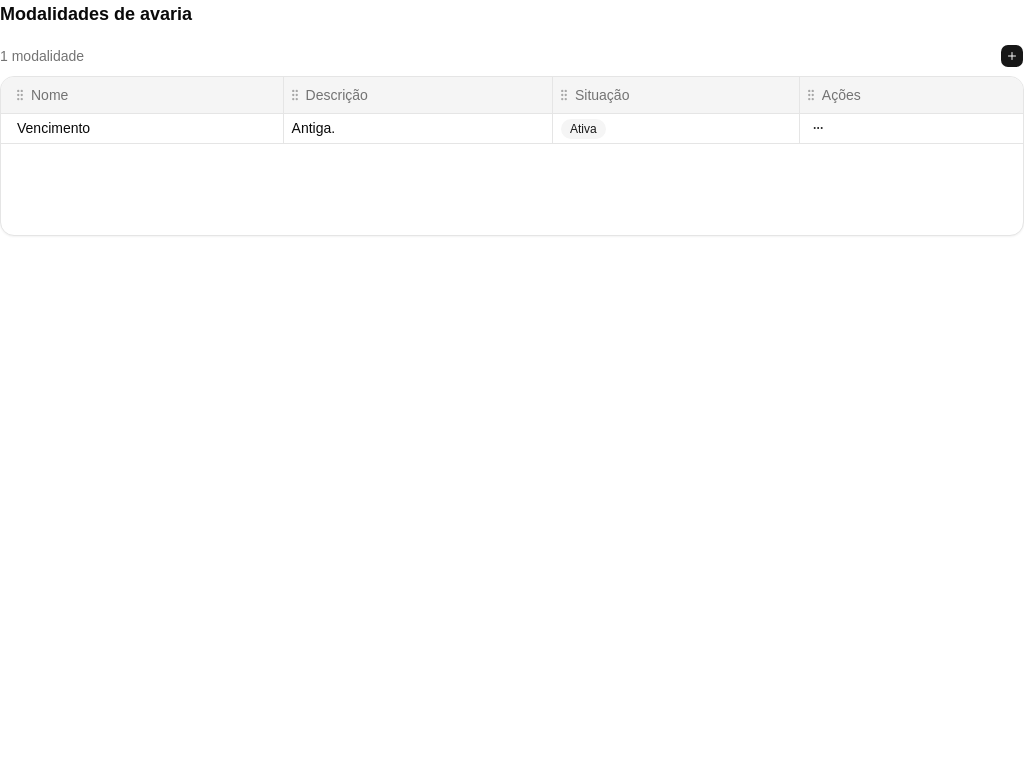
LossReasonsPage › opens a reason already filled to edit it, and sends the change
Click the button named "Ações de Vencimento".
click(818, 128)  # box top-left (808, 118), bottom-right (828, 138)
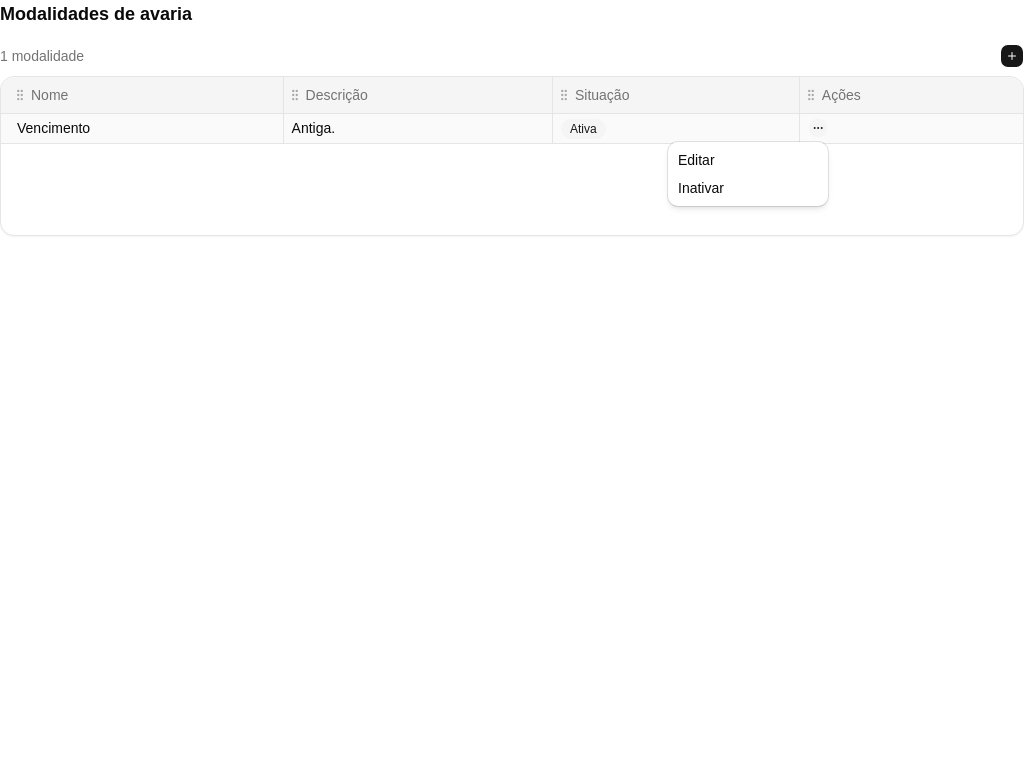
Click the menu item "Editar".
click(696, 160)  # box top-left (678, 152), bottom-right (715, 168)
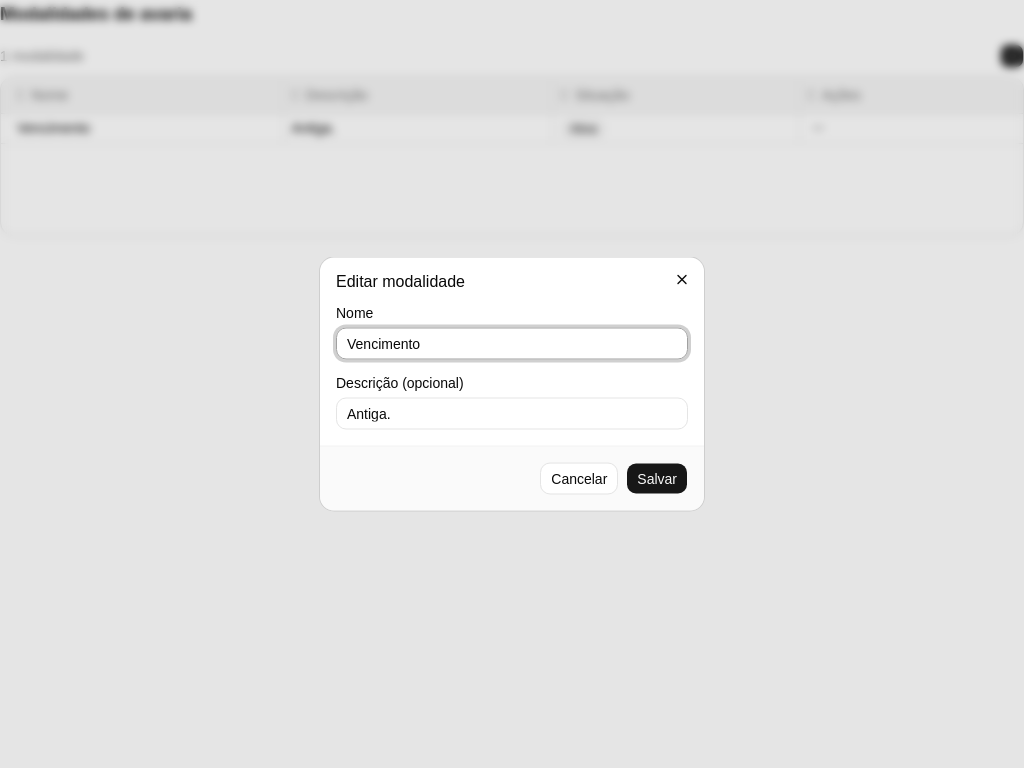
expect the field labelled "Nome" holds "Vencimento": met
expect the field labelled "Descrição (opcional)" holds "Antiga.": met, box top-left (336, 398), bottom-right (688, 430)
Replace the text in the field labelled "Nome" with "Vencido" at (512, 344), box top-left (336, 328), bottom-right (688, 360)
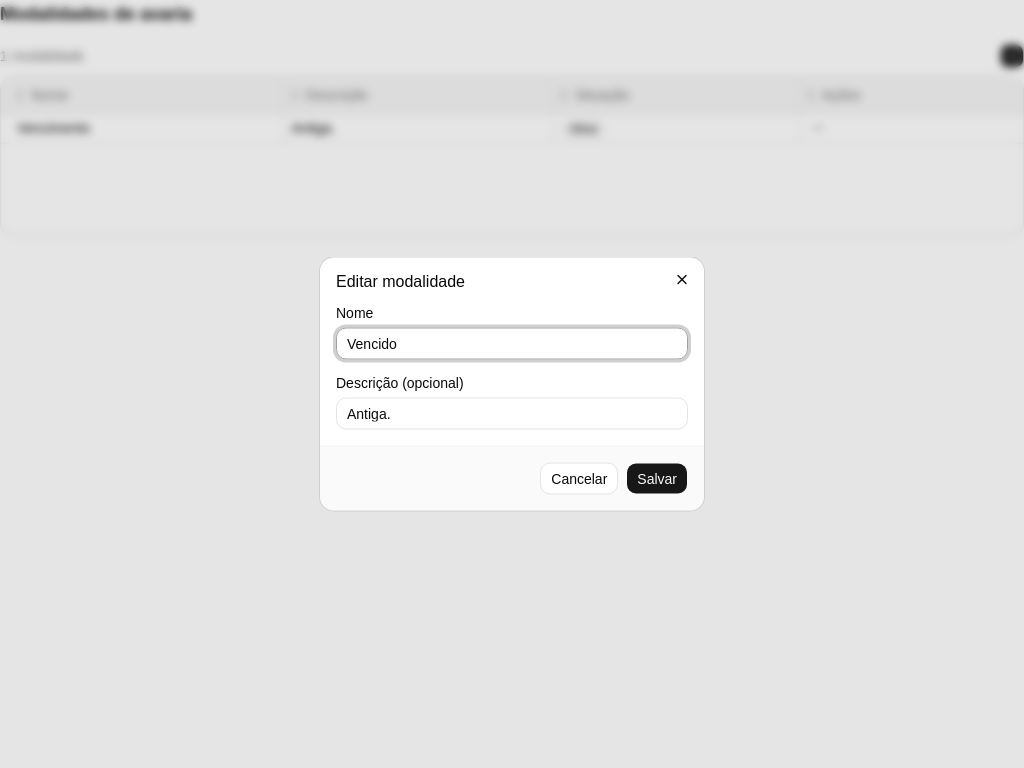
Clear the field labelled "Descrição (opcional)" at (512, 414), box top-left (336, 398), bottom-right (688, 430)
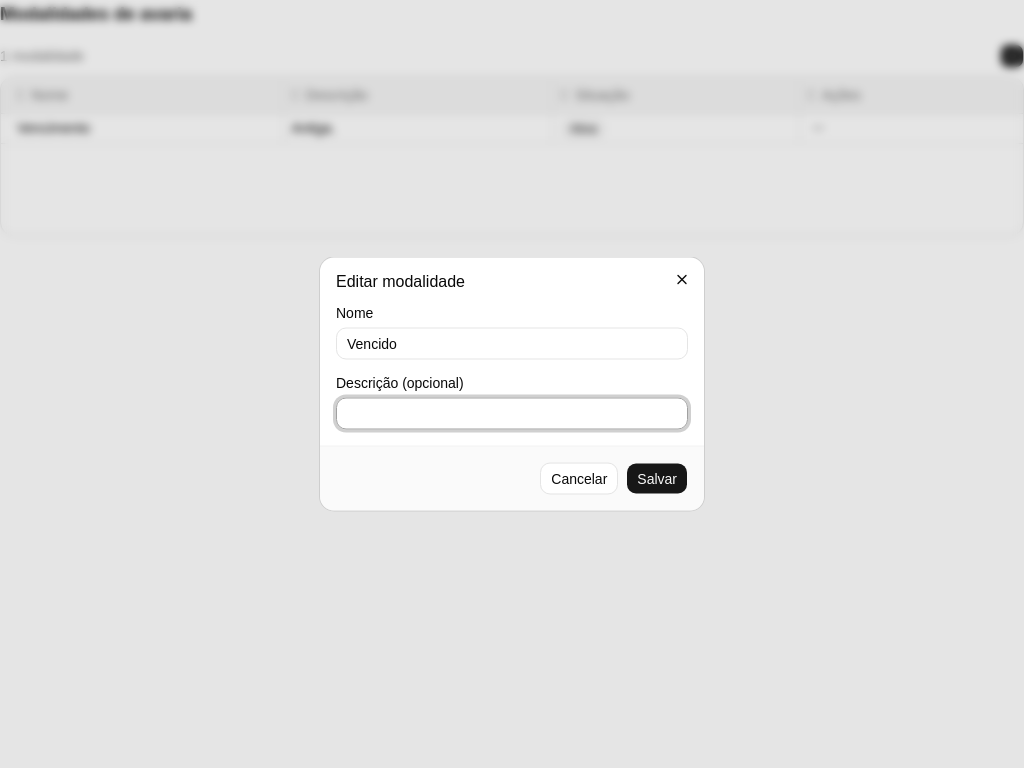
Click the button "Salvar".
click(657, 478)  # box top-left (626, 462), bottom-right (688, 494)
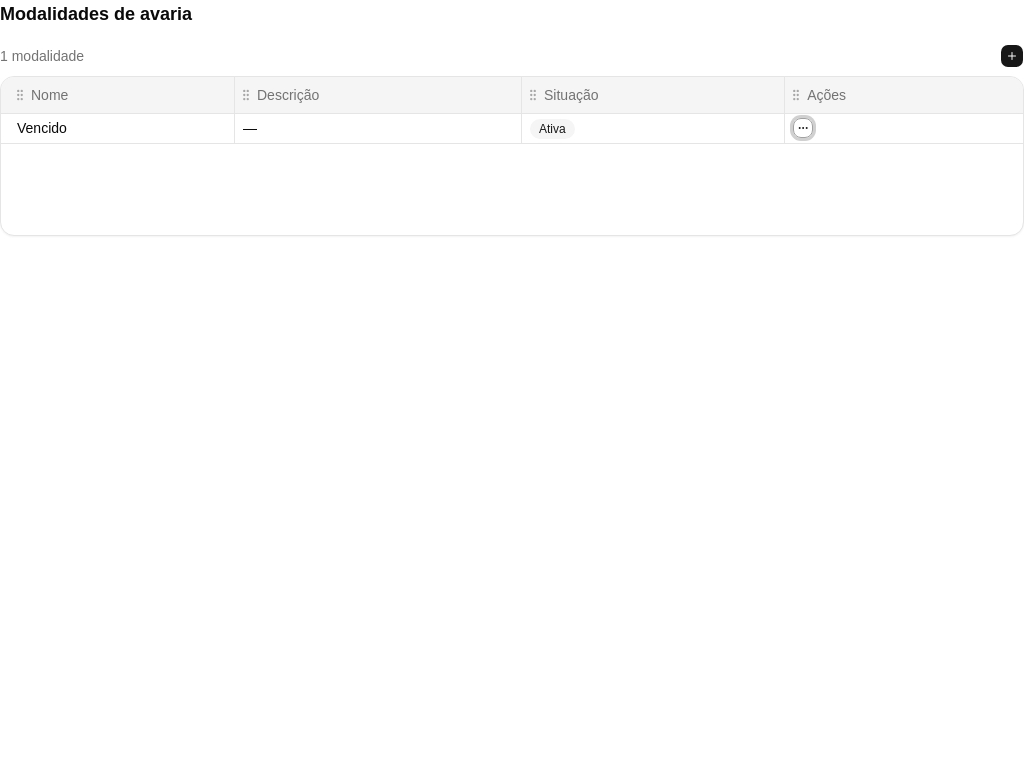
expect the cell "Vencido" is shown: met, box top-left (1, 113), bottom-right (234, 143)
